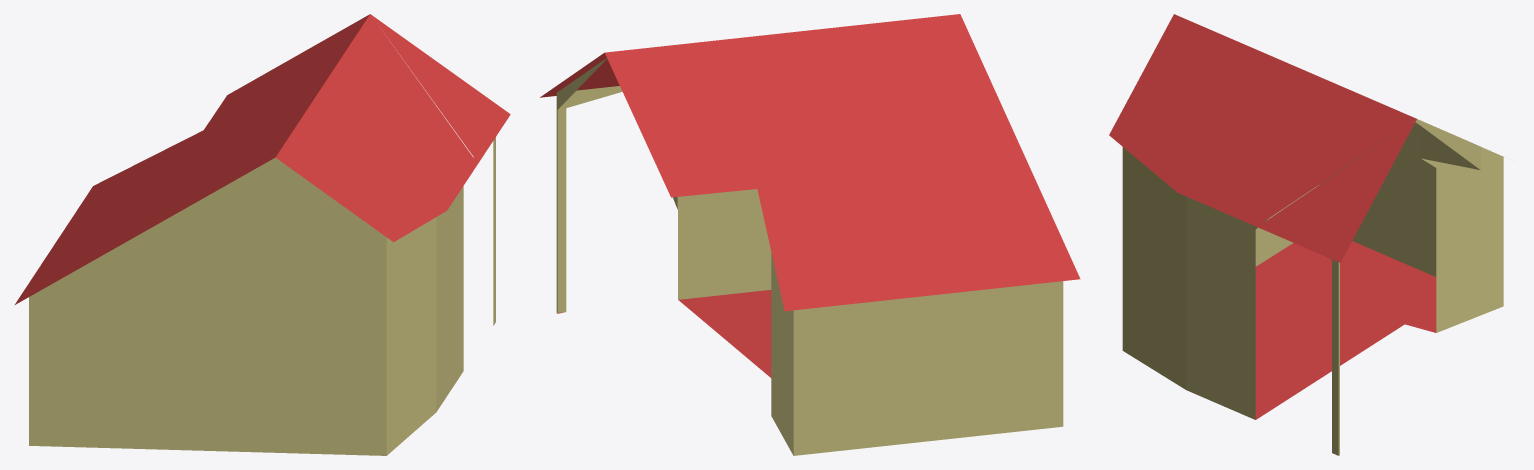
3 views of the same model, side by side, from view 1: azimuth 30°, elevation 25°; view 2: azimuth 150°, elevation 25°; view 3: azimuth 270°, elevation 25° (orthographic). The views are drawn at different scales.
Size of the model in its own units: 25.56 by 18.16 by 14.42.
